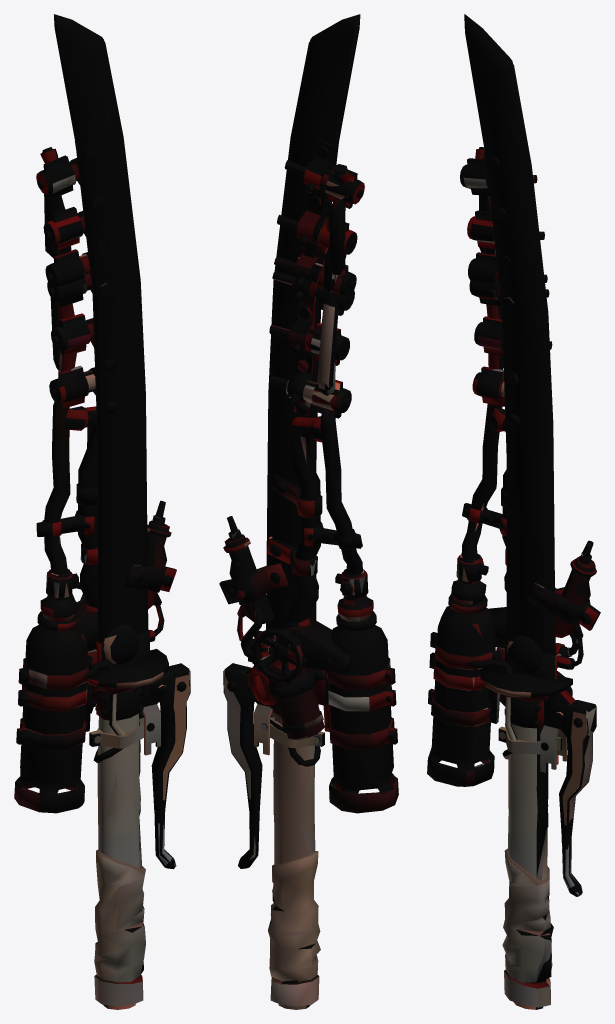
The picture shows the model from 3 angles, left to right: view 1: azimuth 30°, elevation 25°; view 2: azimuth 150°, elevation 25°; view 3: azimuth 330°, elevation 25°; orthographic projection. The views are drawn at different scales.
Visible parts, largest first — view 1: mesh_0; view 2: mesh_0; view 3: mesh_0.
Boxes of the visible parts, x1,y1,x2,y2 form: mesh_0: (14,14,190,1009); mesh_0: (219,14,398,1009); mesh_0: (427,14,600,1009).
Size of the model in its own units: 6.61 by 37.61 by 3.96.
1 material, 1 textured.
